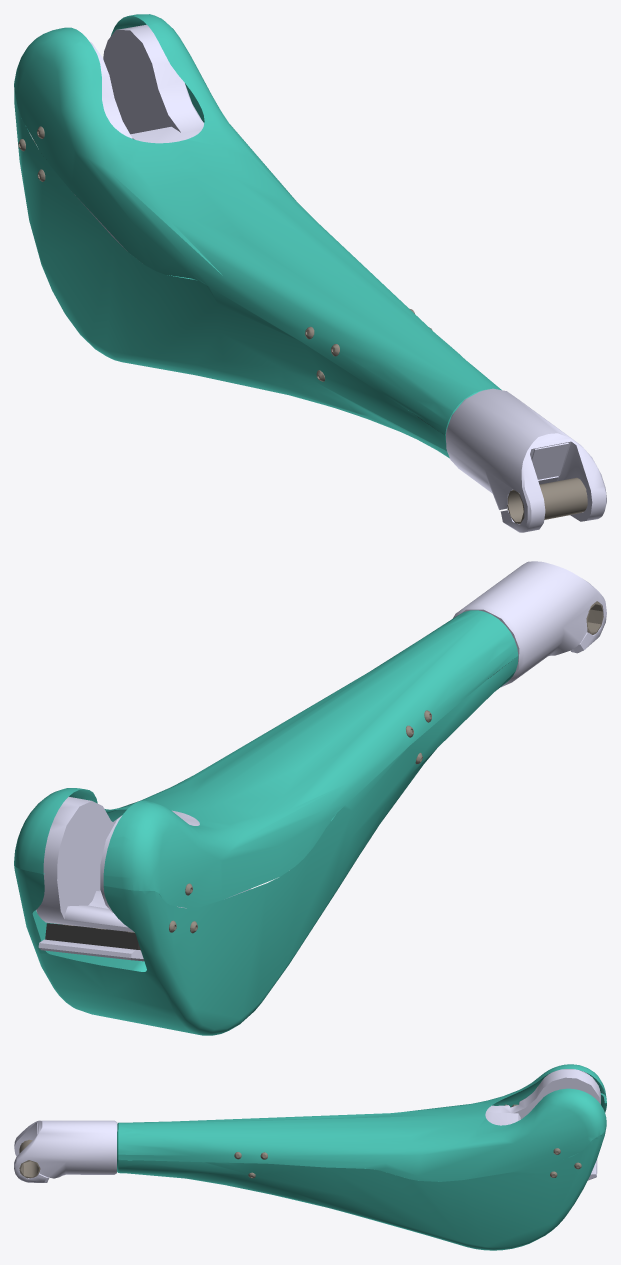
The model's file is right-tarsus.obj.
The picture shows the model from 3 angles, top to bottom: view 1: azimuth 30°, elevation 25°; view 2: azimuth 150°, elevation 25°; view 3: azimuth 270°, elevation 25°; orthographic projection. The views are drawn at different scales.
Parts seen in each view (by area): view 1: right_tarsus; view 2: right_tarsus; view 3: right_tarsus.
Part boxes in pixels (box(x1,y1,x2,y2)): right_tarsus: box(14, 14, 606, 532); right_tarsus: box(14, 561, 606, 1035); right_tarsus: box(14, 1064, 606, 1250).
Size of the model in its own units: 0.0817 by 0.1338 by 0.4494.
Materials: 1 (1 with a texture image).
